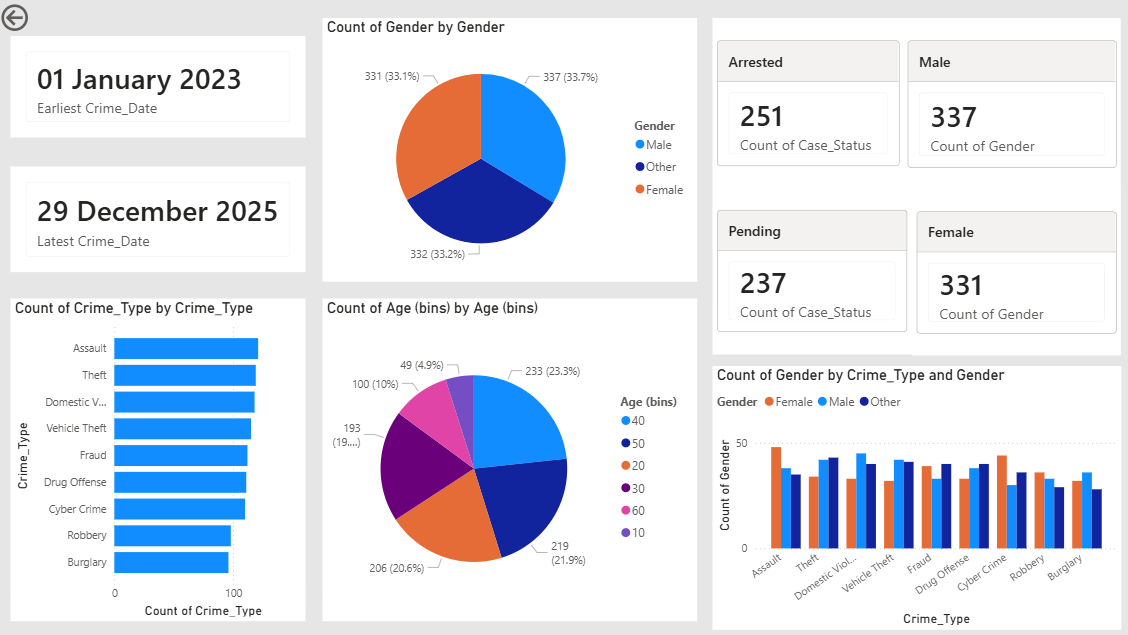

The dashboard page shown, as its layout file describes it:
{"tool":"powerbi","page":{"name":"Crime Analysis Page 2","canvas":[1280,720],"ordinal":1},"visuals":[{"type":"clusteredColumnChart","fields":{"Category":["crime_data_1000_records.Crime_Type"],"Y":["CountNonNull(crime_data_1000_records.Gender)"],"Series":["crime_data_1000_records.Gender"]},"box":[808,414.1,462.2,297.8],"z":0},{"type":"pieChart","fields":{"Category":["crime_data_1000_records.Gender"],"Y":["CountNonNull(crime_data_1000_records.Gender)"]},"box":[367.6,20.2,423.4,297.8],"z":1000},{"type":"pieChart","fields":{"Y":["CountNonNull(crime_data_1000_records.Age (bins))"],"Category":["crime_data_1000_records.Age (bins)"]},"box":[367.6,338.1,423.4,364.5],"z":2000},{"type":"clusteredBarChart","fields":{"Category":["crime_data_1000_records.Crime_Type"],"Y":["CountNonNull(crime_data_1000_records.Crime_Type)"]},"box":[15.5,338.1,333.4,364.5],"z":3000},{"type":"cardVisual","fields":{"Rows":["crime_data_1000_records.Case_Status"],"Data":["CountNonNull(crime_data_1000_records.Case_Status)"]},"box":[808,20,216,192],"z":4000},{"type":"cardVisual","fields":{"Data":["CountNonNull(crime_data_1000_records.Case_Status)"],"Rows":["crime_data_1000_records.Case_Status"]},"box":[808.1,212.3,225.9,188.9],"z":5000},{"type":"actionButton","box":[0,0,100,40],"z":6000},{"type":"cardVisual","fields":{"Data":["Min(crime_data_1000_records.Crime_Date)"]},"box":[15.5,40.3,333.4,114.8],"z":7000},{"type":"cardVisual","fields":{"Data":["Max(crime_data_1000_records.Crime_Date)"]},"box":[15.5,187.7,333.4,119.4],"z":8000},{"type":"cardVisual","fields":{"Rows":["crime_data_1000_records.Gender"],"Data":["CountNonNull(crime_data_1000_records.Gender)"]},"box":[1034,214,236,188],"z":9000},{"type":"cardVisual","fields":{"Rows":["crime_data_1000_records.Gender"],"Data":["CountNonNull(crime_data_1000_records.Gender)"]},"box":[1024,20,246,194],"z":10000}]}

Visuals, with their boxes in screenshot pixels (x1, y1, x2, y2), scaled from the page's 1280x720 canvas onto the 1128x635 screenshot:
clusteredColumnChart - crime_data_1000_records.Crime_Type x CountNonNull(crime_data_1000_records.Gender): locate(712, 365, 1119, 628)
pieChart - crime_data_1000_records.Gender x CountNonNull(crime_data_1000_records.Gender): locate(324, 18, 697, 280)
pieChart - CountNonNull(crime_data_1000_records.Age (bins)) x crime_data_1000_records.Age (bins): locate(324, 298, 697, 620)
clusteredBarChart - crime_data_1000_records.Crime_Type x CountNonNull(crime_data_1000_records.Crime_Type): locate(14, 298, 307, 620)
cardVisual - crime_data_1000_records.Case_Status x CountNonNull(crime_data_1000_records.Case_Status): locate(712, 18, 902, 187)
cardVisual - CountNonNull(crime_data_1000_records.Case_Status) x crime_data_1000_records.Case_Status: locate(712, 187, 911, 354)
actionButton: locate(0, 0, 88, 35)
cardVisual - Min(crime_data_1000_records.Crime_Date): locate(14, 36, 307, 137)
cardVisual - Max(crime_data_1000_records.Crime_Date): locate(14, 166, 307, 271)
cardVisual - crime_data_1000_records.Gender x CountNonNull(crime_data_1000_records.Gender): locate(911, 189, 1119, 355)
cardVisual - crime_data_1000_records.Gender x CountNonNull(crime_data_1000_records.Gender): locate(902, 18, 1119, 189)
